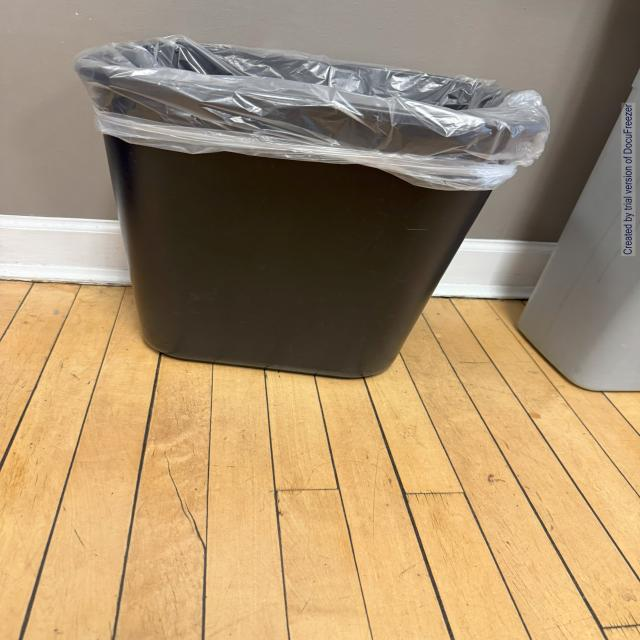Trash bin: (72, 26, 543, 401)
